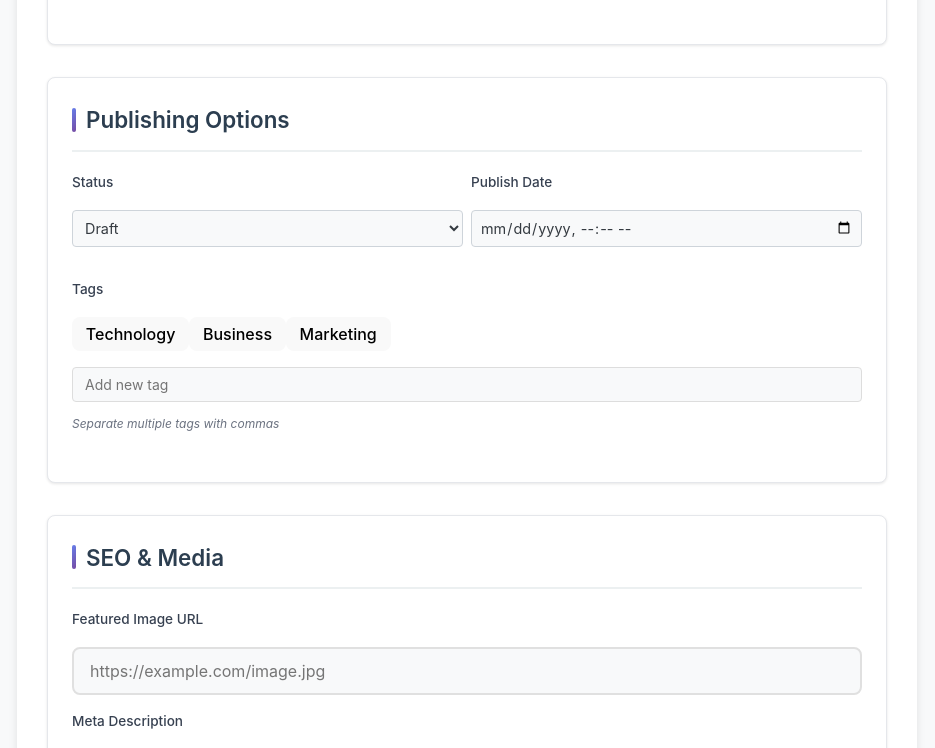
BlogPostForm Component › Tag Management › should create new tag inline
The image size is (935, 748).
(page scrolled)
Type "NewTag" into the field with placeholder "Add new tag". click: (467, 385)
box: x1=72 y1=367 x2=862 y2=402
Then press Enter
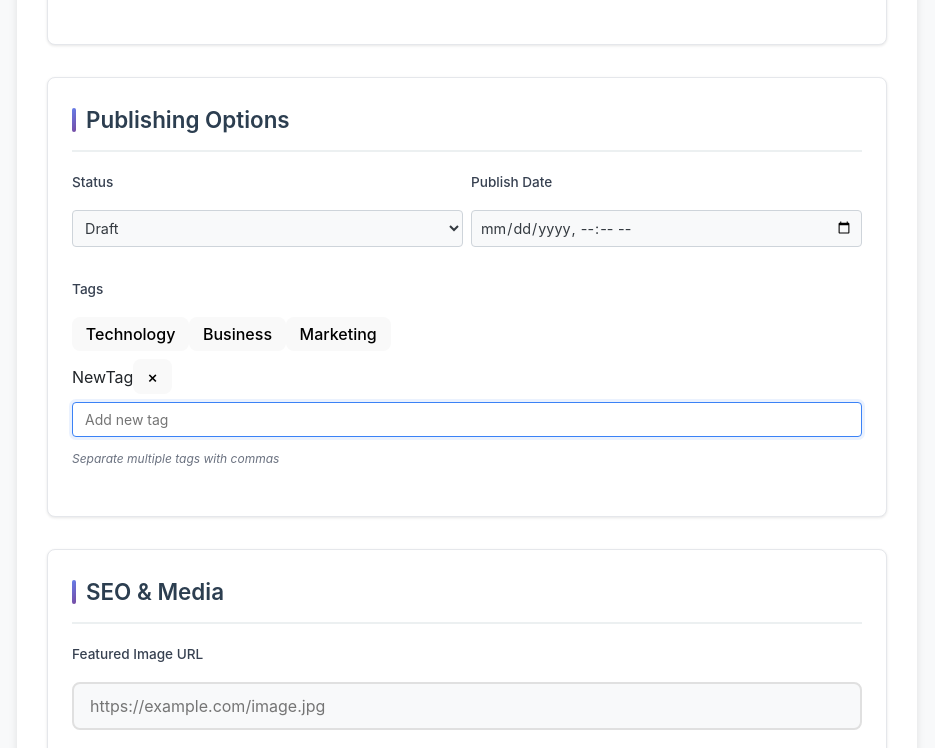
Expected: the element with test id "selected-tag-NewTag" is shown, x1=72 y1=367 x2=172 y2=387
